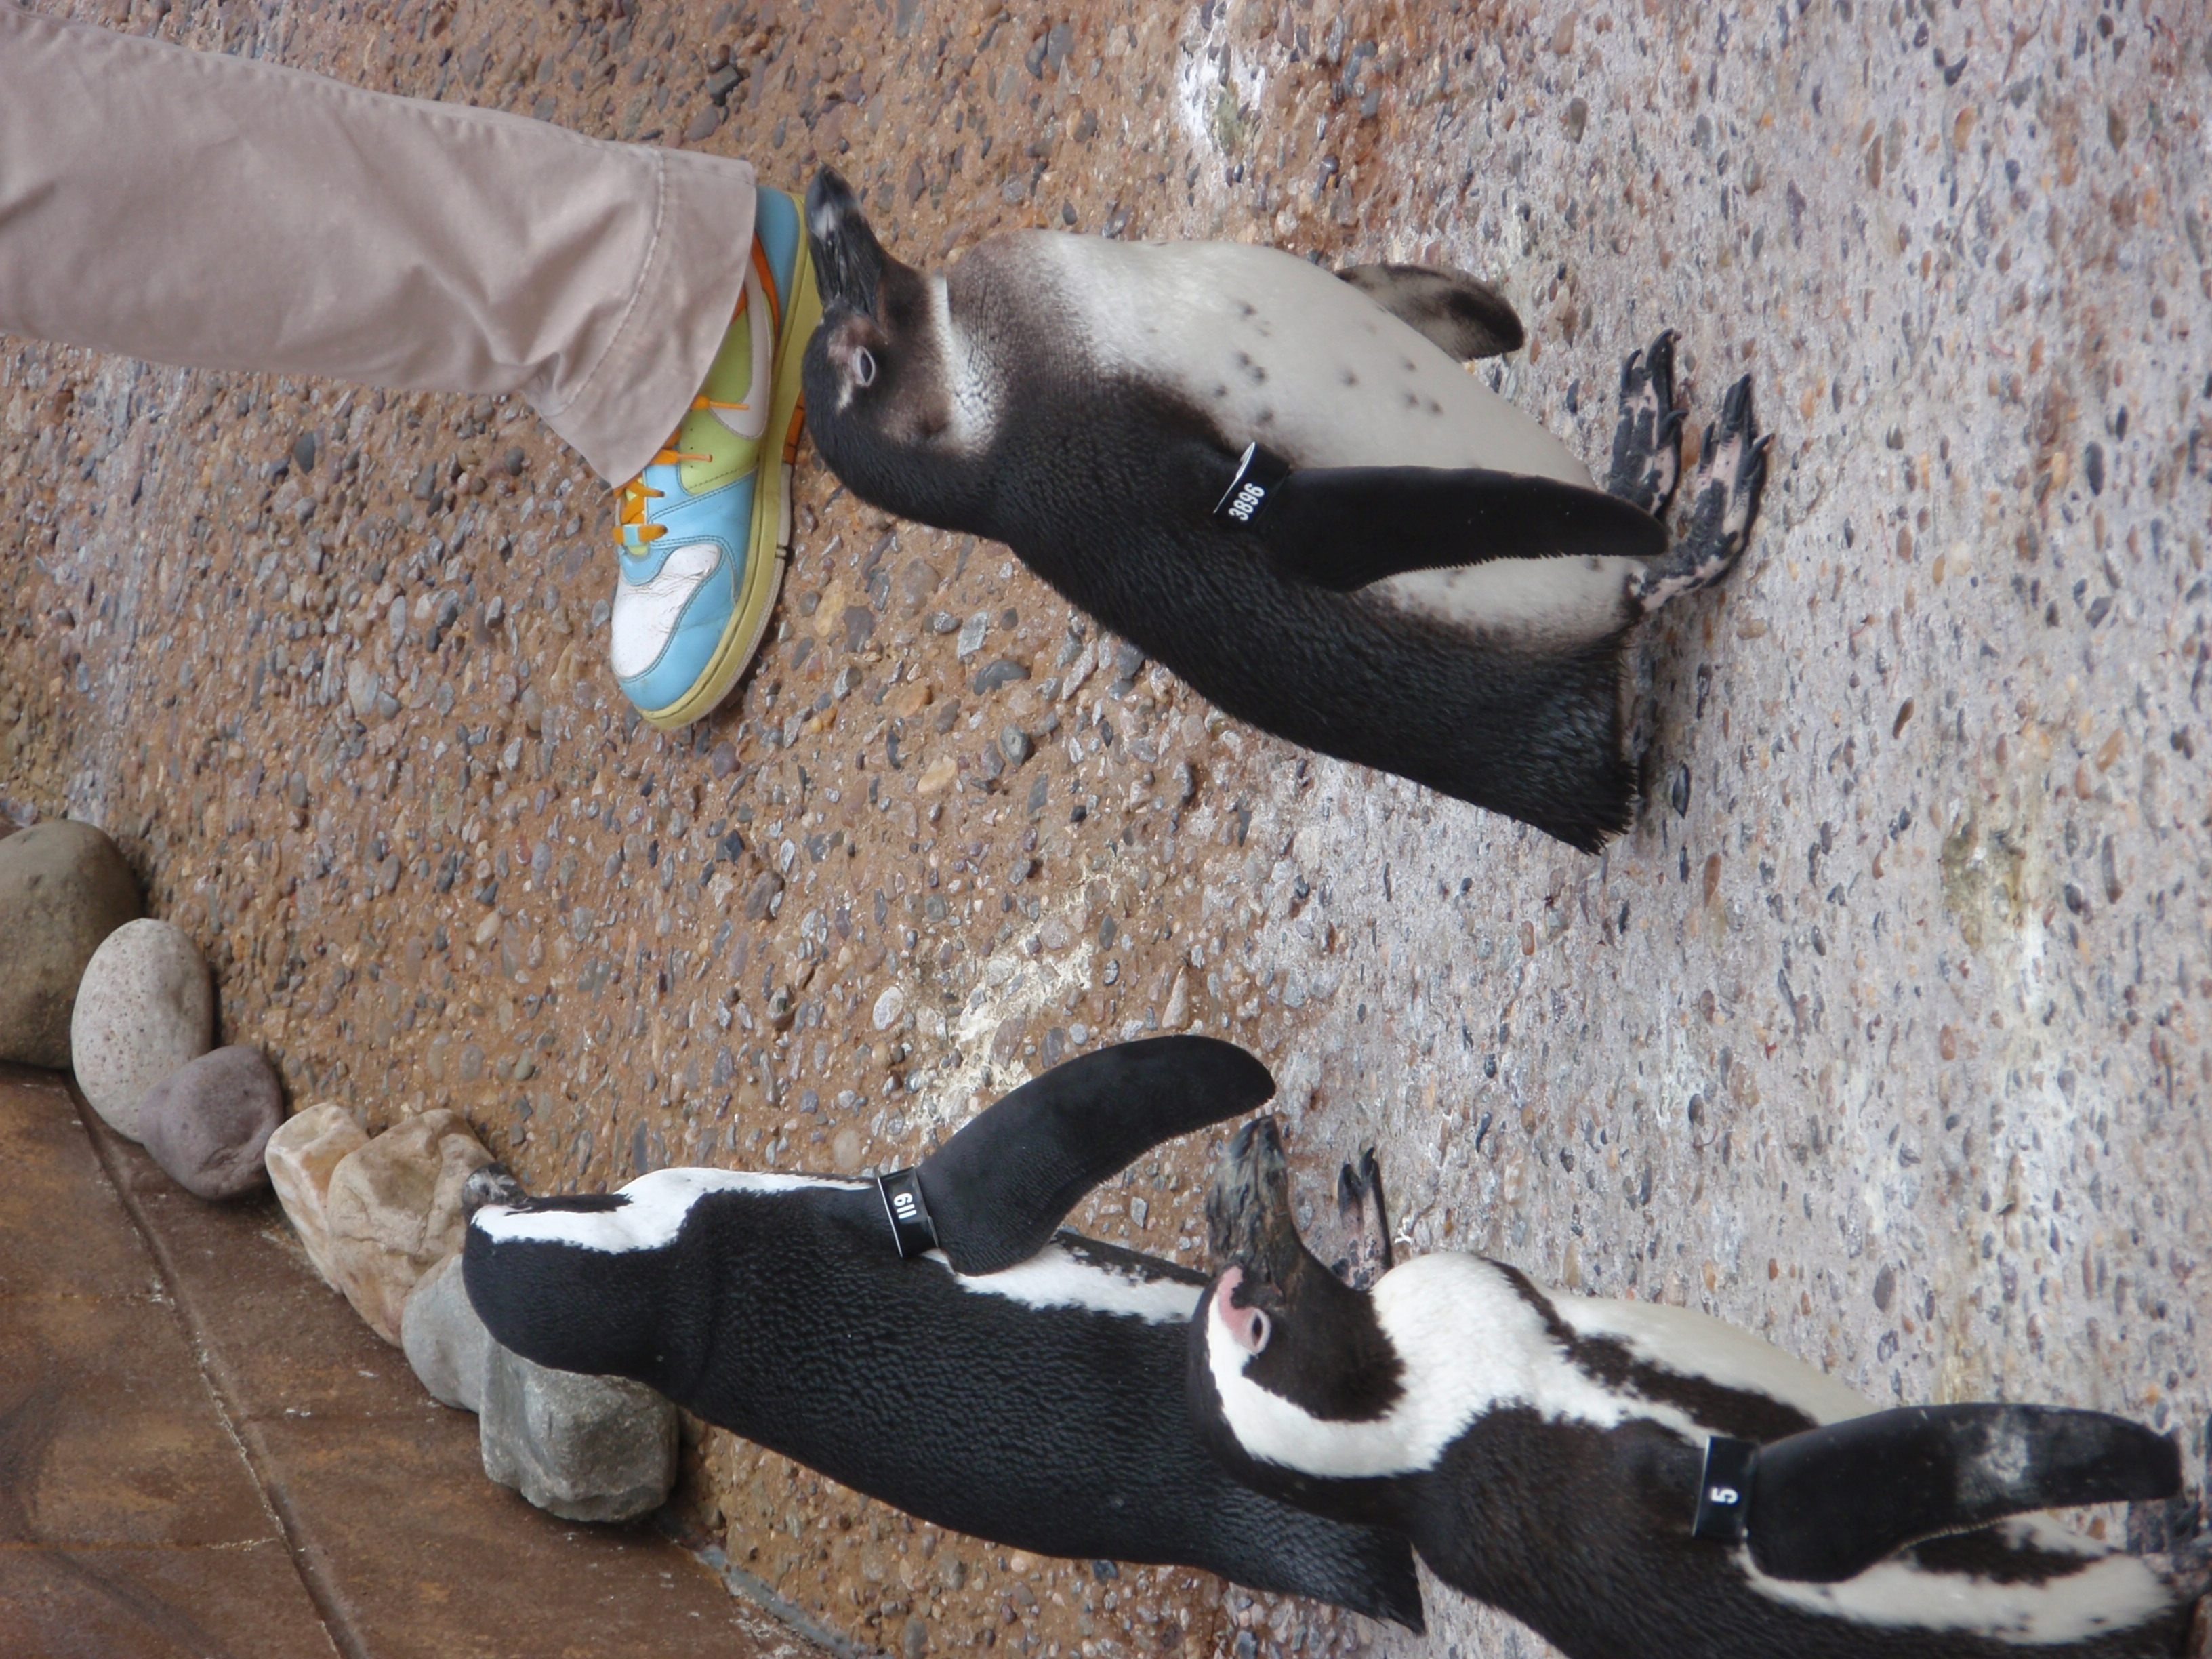penguin: (808, 171, 1825, 875), (1204, 1122, 1994, 1638)
